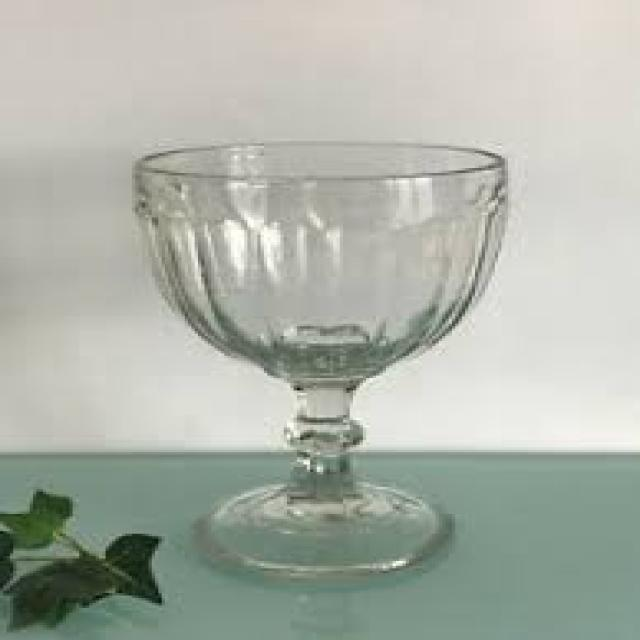Glass: (134, 139, 516, 585)
